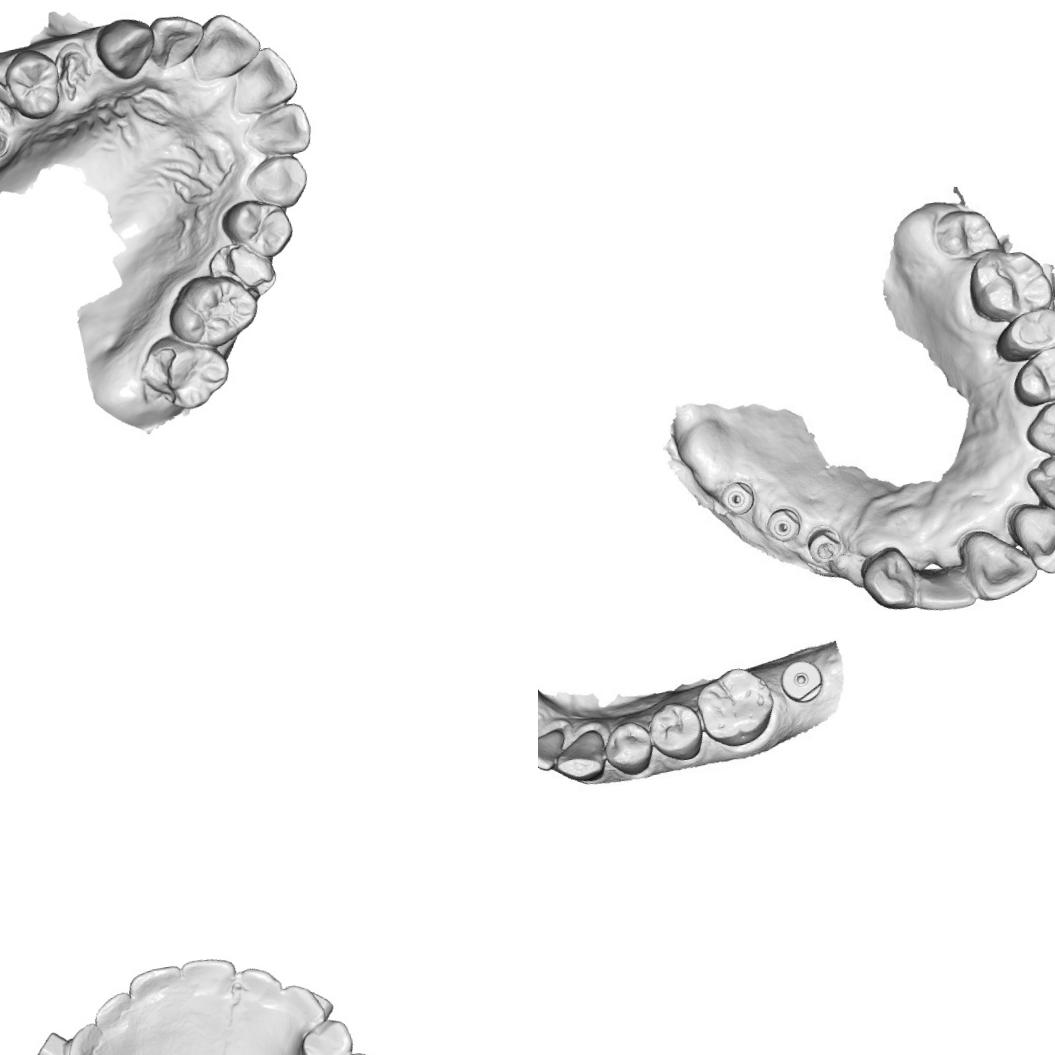canine: (90, 12, 160, 85), (861, 542, 922, 611), (245, 152, 312, 214), (550, 730, 614, 786), (279, 978, 328, 1032), (61, 1020, 110, 1055), (1029, 400, 1055, 459)
implant: (776, 653, 826, 705), (709, 476, 760, 520), (802, 522, 844, 566), (762, 503, 804, 542)
incisor: (224, 42, 302, 117), (960, 525, 1036, 601), (188, 8, 265, 80), (144, 7, 210, 75), (244, 100, 315, 161), (125, 962, 189, 1020), (1011, 496, 1055, 577), (912, 557, 978, 611), (178, 952, 240, 1007), (233, 962, 285, 1006), (90, 990, 136, 1037), (1024, 453, 1055, 512), (538, 731, 565, 779)
molar: (133, 328, 235, 418), (162, 268, 264, 354), (693, 662, 778, 753), (972, 241, 1055, 324)
premolar: (218, 194, 297, 264), (1, 43, 66, 126), (989, 302, 1055, 365), (649, 696, 707, 763), (603, 719, 656, 782), (1007, 343, 1055, 411), (295, 1014, 358, 1055)
